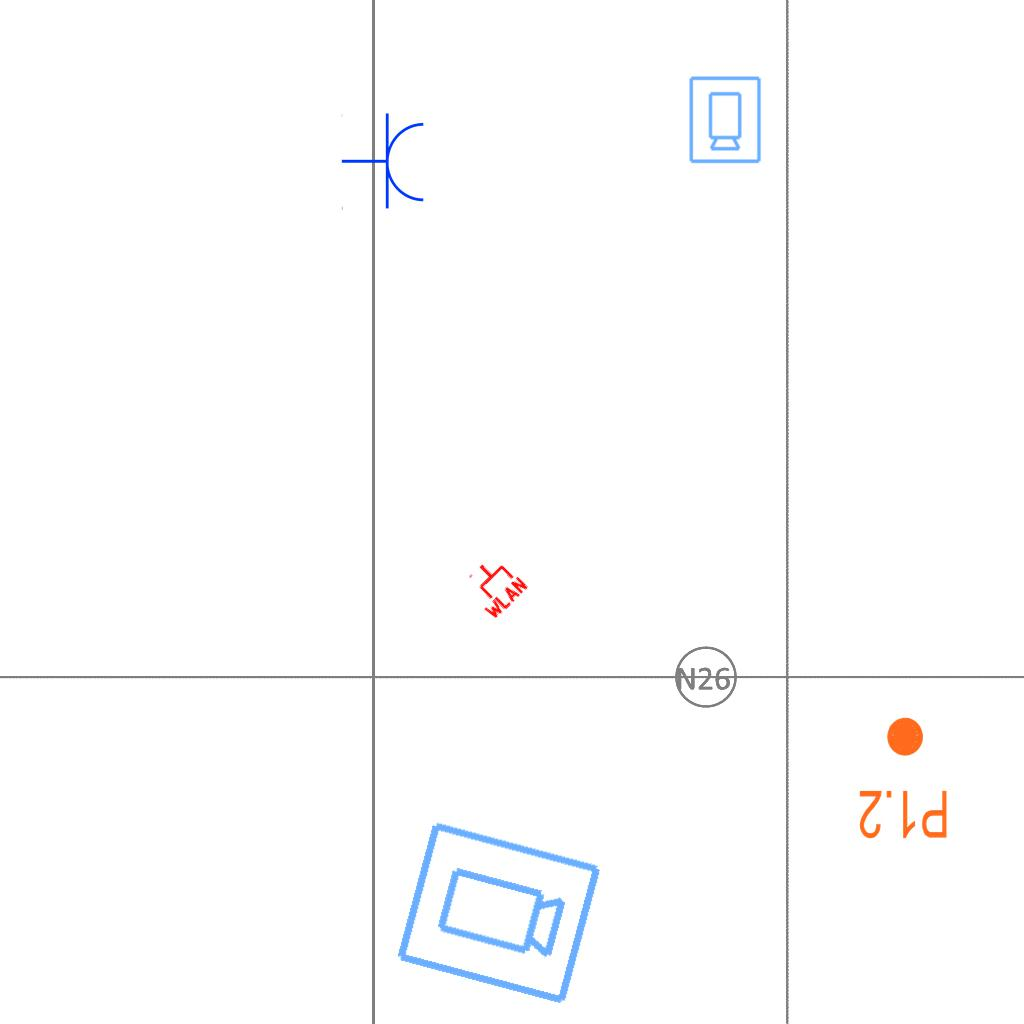Downlight_LED_Einbauleuchten_Flur: (857, 714, 950, 842)
KFO_Kamera_mit_Festobjektiv: (390, 816, 606, 1012), (686, 74, 763, 165)
Schukosteckdose_einfach: (341, 112, 428, 212)
WLAN: (457, 549, 531, 623)
